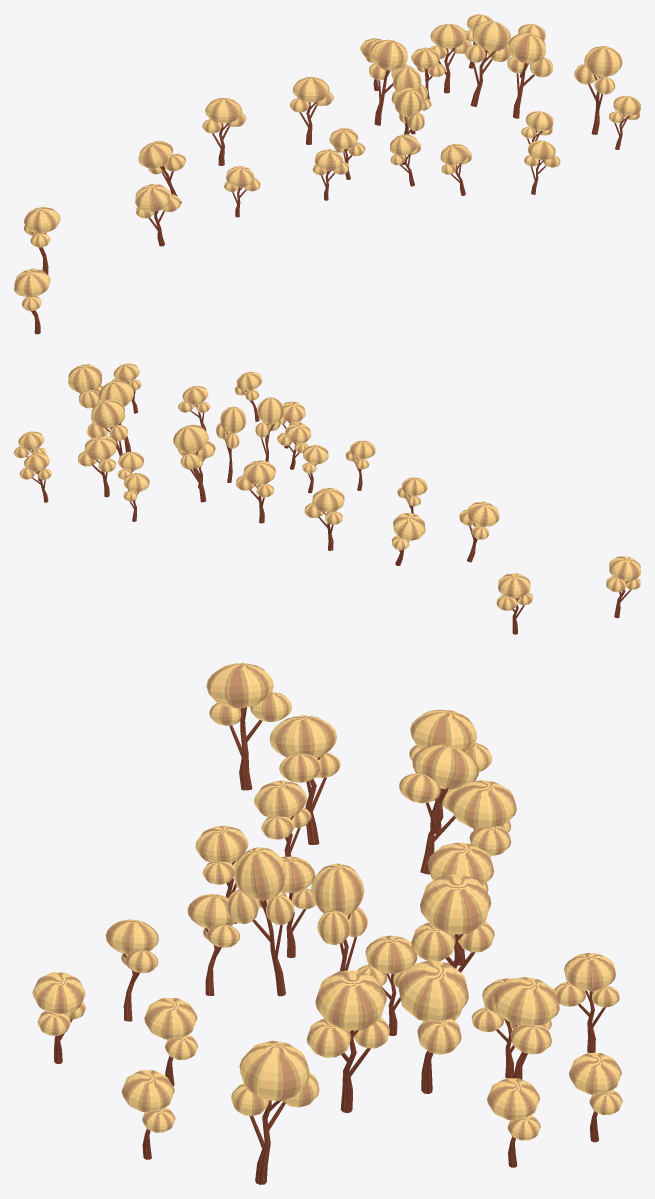
Rendered from Trees.glb.
3 renders of one model, top to bottom at view 1: azimuth 30°, elevation 25°; view 2: azimuth 150°, elevation 25°; view 3: azimuth 270°, elevation 25°, orthographic. The views are drawn at different scales.
Parts seen in each view (by area): view 1: Tree13, Tree21, Tree4, Tree34, Tree61, Tree11, Tree27, Tree60, Tree15, Tree52, Tree53, Tree62 (+10 smaller); view 2: Tree4, Tree34, Tree53, Tree11, Tree27, Tree15, Tree52, Tree61, Tree13, Tree63, Tree60, Tree62 (+13 smaller); view 3: Tree21, Tree13, Tree34, Tree4, Tree52, Tree62, Tree61, Tree60, Tree15, Tree63, Tree27, Tree9 (+14 smaller).
Part boxes in pixels (x1,y1,x2,y2): Tree13: (574,46,622,134); Tree21: (507,33,552,118); Tree4: (465,21,510,106); Tree34: (369,39,411,125); Tree61: (135,184,180,246); Tree11: (289,77,333,144); Tree27: (202,98,246,165); Tree60: (138,141,185,203); Tree15: (430,24,471,93); Tree52: (14,268,50,334); Tree53: (24,207,60,274); Tree62: (394,87,424,164); Tree4: (87,399,127,455); Tree34: (173,424,208,502); Tree53: (496,573,532,634); Tree11: (235,460,275,523); Tree27: (304,488,344,550); Tree15: (78,435,116,497); Tree52: (606,556,640,618); Tree61: (459,501,499,562); Tree13: (68,364,103,408); Tree63: (216,406,246,482); Tree60: (391,512,425,565); Tree62: (255,397,283,461); Tree21: (307,970,389,1113); Tree13: (231,1040,319,1184); Tree34: (411,874,494,972); Tree4: (398,960,468,1093); Tree52: (206,663,291,790); Tree62: (226,847,294,996); Tree61: (269,715,340,844); Tree60: (399,744,478,874); Tree15: (493,977,559,1079); Tree63: (311,863,367,970); Tree27: (450,780,516,856); Tree9: (554,953,619,1052).
Bounding box in the file's own units: 88.71 × 21.01 × 40.48.
1 material, 1 textured.
